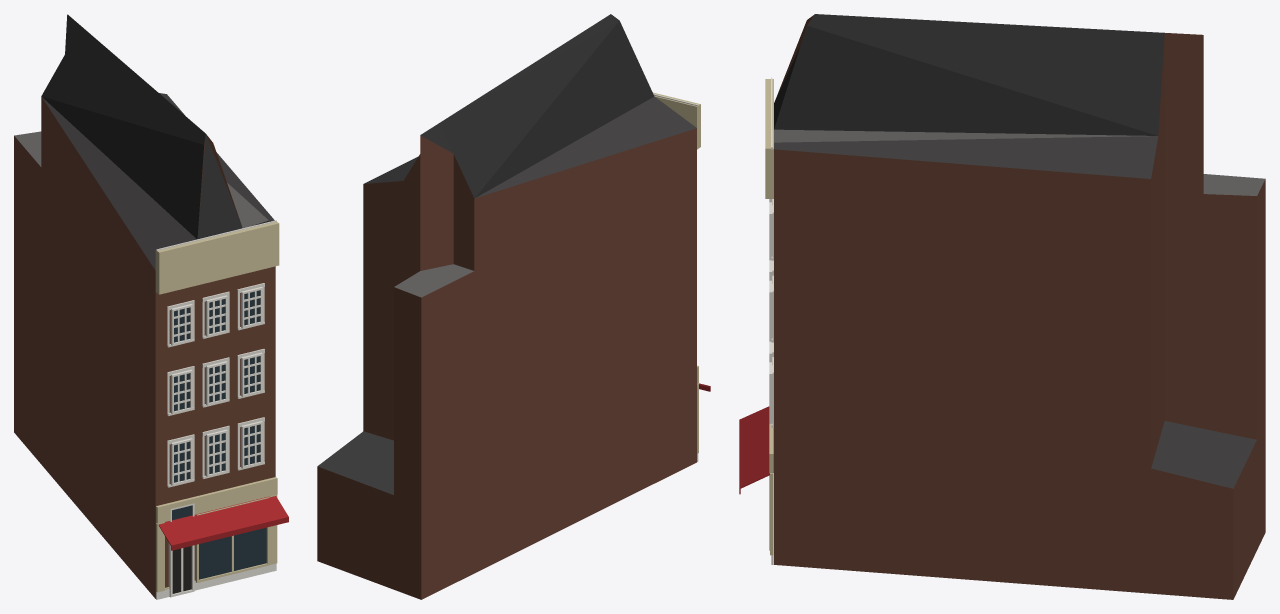
3 renders of one model, left to right at view 1: azimuth 30°, elevation 25°; view 2: azimuth 150°, elevation 25°; view 3: azimuth 270°, elevation 25°, orthographic. The views are drawn at different scales.
Parts seen in each view (by area): view 1: spec-0363100012177932; view 2: spec-0363100012177932; view 3: spec-0363100012177932.
Part boxes in pixels (x1=…): spec-0363100012177932: x1=14, y1=14, x2=288, y2=599; spec-0363100012177932: x1=317, y1=14, x2=710, y2=599; spec-0363100012177932: x1=739, y1=14, x2=1265, y2=599.
Size of the model in its own units: 7.17 by 16.6 by 15.21.
